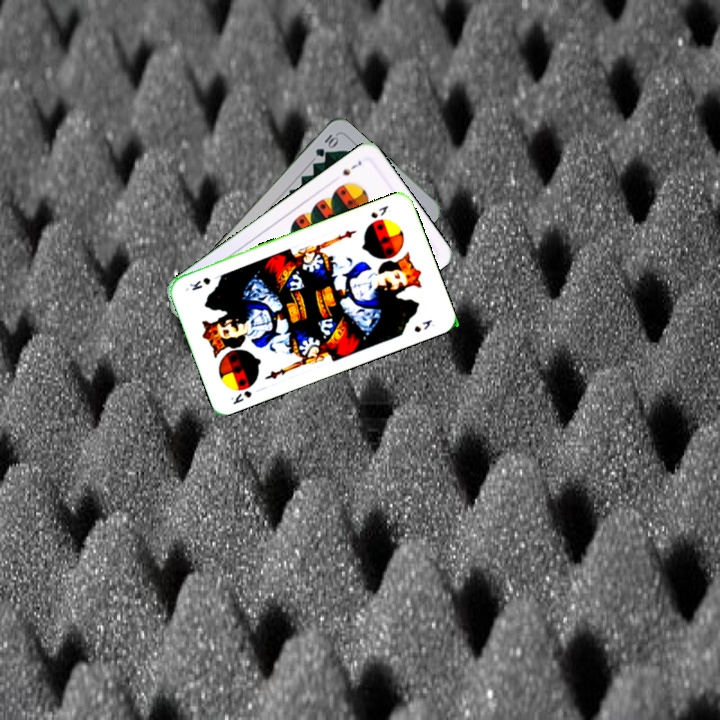G10: (311, 130, 341, 160)
S7: (338, 156, 364, 178)
SK: (227, 387, 254, 407), (367, 201, 391, 221)
